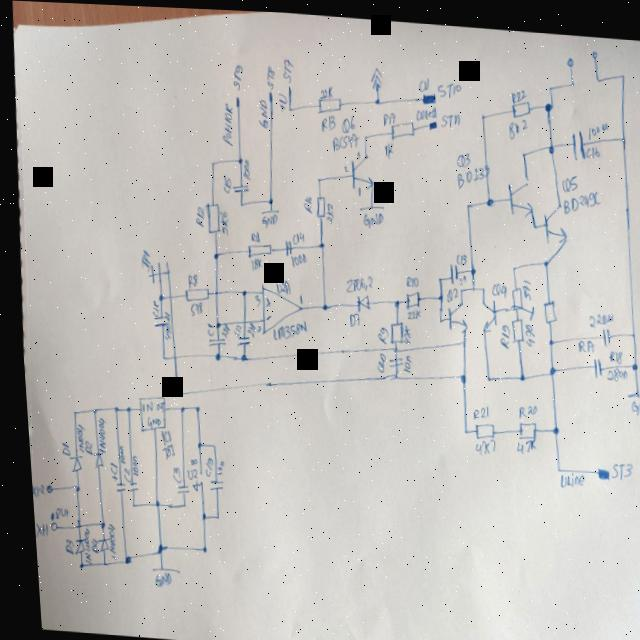capacitor: (566, 123, 585, 156), (585, 350, 597, 373), (200, 474, 217, 490), (442, 256, 454, 278), (201, 333, 221, 345), (228, 177, 245, 191), (595, 320, 606, 340), (167, 478, 182, 491), (278, 234, 288, 253), (146, 313, 163, 324), (382, 350, 396, 363), (230, 331, 245, 343), (118, 477, 131, 490), (106, 479, 117, 490)
crossover: (66, 520, 72, 529), (386, 341, 392, 348), (165, 351, 171, 357), (162, 291, 167, 297), (236, 315, 240, 321)
diode: (60, 452, 76, 470), (350, 290, 366, 308), (88, 533, 101, 550), (83, 450, 96, 466), (65, 535, 76, 553)
ground: (353, 197, 380, 209), (141, 562, 171, 572), (618, 382, 640, 392), (255, 203, 276, 212)
junction: (540, 94, 551, 106), (541, 358, 550, 370), (481, 190, 490, 201), (540, 330, 549, 341), (381, 367, 392, 376), (543, 137, 552, 147), (147, 541, 156, 551), (544, 419, 552, 429), (312, 235, 320, 245), (624, 354, 632, 364), (233, 349, 241, 359), (114, 551, 121, 562), (65, 480, 72, 491), (464, 260, 471, 270), (512, 366, 519, 376), (453, 367, 460, 377), (316, 298, 324, 306), (152, 289, 158, 299), (145, 496, 152, 504), (388, 294, 395, 302), (460, 195, 467, 203), (567, 73, 574, 81), (623, 323, 630, 331), (617, 128, 624, 136), (263, 193, 270, 201), (187, 400, 193, 409), (118, 402, 124, 411), (371, 91, 377, 100), (69, 559, 75, 568), (208, 248, 214, 256), (192, 542, 198, 550), (235, 284, 241, 292), (477, 106, 483, 114), (106, 402, 112, 410), (172, 401, 178, 409), (189, 438, 195, 446), (617, 64, 623, 72), (192, 509, 198, 517), (592, 69, 598, 77), (167, 386, 173, 394), (431, 288, 437, 296), (233, 152, 239, 160), (91, 519, 97, 527), (208, 349, 214, 357), (454, 332, 460, 340), (209, 317, 215, 325), (431, 270, 438, 276), (544, 77, 550, 84), (538, 252, 543, 260), (479, 370, 485, 376), (527, 217, 533, 223), (122, 499, 127, 506), (432, 311, 436, 319), (456, 422, 461, 428), (173, 499, 178, 505), (65, 407, 70, 413), (518, 144, 523, 150), (206, 510, 211, 516), (234, 196, 239, 202), (85, 405, 90, 411), (92, 558, 97, 564), (453, 281, 458, 287), (549, 460, 553, 467), (506, 259, 510, 265), (312, 172, 316, 178), (207, 156, 211, 162), (155, 351, 159, 357), (359, 129, 363, 135), (466, 278, 470, 284), (204, 440, 208, 446), (285, 102, 289, 108), (476, 280, 480, 286), (209, 285, 213, 291)
resistor: (505, 278, 529, 313), (385, 114, 413, 136), (200, 198, 218, 232), (177, 283, 205, 303), (314, 90, 341, 110), (241, 238, 269, 256), (510, 414, 531, 435), (536, 292, 552, 319), (382, 315, 398, 340), (507, 93, 528, 112), (504, 311, 519, 337), (398, 285, 417, 305), (467, 417, 488, 434), (310, 188, 323, 215), (342, 307, 355, 324)
source: (367, 61, 381, 89)
switch: (142, 257, 165, 281)
terminal: (588, 459, 602, 474), (419, 87, 433, 99), (423, 114, 435, 126), (41, 519, 49, 530), (564, 50, 572, 60), (37, 481, 44, 492), (589, 42, 596, 52), (231, 89, 238, 98), (264, 85, 271, 91), (284, 80, 290, 86)
text: (557, 180, 598, 211), (452, 156, 488, 186), (265, 312, 302, 338), (216, 98, 232, 142), (328, 127, 358, 149), (339, 269, 369, 289), (152, 426, 170, 457), (503, 111, 526, 135), (550, 463, 577, 483), (253, 92, 268, 128), (88, 411, 100, 456), (433, 74, 461, 93), (602, 454, 626, 474), (581, 303, 607, 321), (583, 113, 605, 134), (356, 205, 380, 224), (466, 432, 489, 451), (555, 166, 575, 187), (97, 520, 108, 558), (227, 59, 242, 86), (154, 307, 167, 338), (436, 105, 458, 123), (508, 431, 530, 449), (411, 100, 434, 117), (67, 419, 78, 453), (599, 359, 622, 375), (278, 54, 292, 80), (261, 60, 274, 88), (507, 80, 525, 100), (73, 524, 82, 562), (622, 389, 640, 408), (255, 208, 274, 226), (144, 568, 163, 586), (317, 109, 334, 129), (464, 398, 484, 415), (284, 247, 302, 265), (269, 273, 287, 291), (337, 109, 353, 129), (492, 317, 505, 341), (452, 145, 468, 164), (41, 505, 61, 520), (413, 69, 429, 87), (517, 315, 529, 339), (297, 189, 310, 211), (214, 205, 225, 231), (511, 397, 530, 412), (190, 201, 202, 224), (398, 267, 414, 284), (515, 273, 527, 295), (368, 346, 380, 368), (195, 452, 207, 474), (135, 245, 147, 267), (485, 275, 501, 291), (316, 79, 331, 96), (571, 331, 588, 346), (121, 449, 131, 474), (274, 85, 284, 110), (378, 135, 391, 154), (582, 138, 597, 154), (163, 461, 175, 481), (217, 171, 229, 191), (142, 294, 154, 314), (440, 280, 454, 297), (183, 297, 197, 314), (395, 318, 406, 339), (602, 341, 617, 356), (27, 519, 40, 536), (320, 197, 330, 219), (370, 321, 382, 339), (379, 106, 393, 121), (55, 534, 66, 553), (215, 319, 227, 336), (395, 347, 405, 367), (237, 154, 247, 174), (180, 270, 193, 285), (52, 438, 64, 454), (25, 481, 37, 497), (240, 317, 251, 334), (287, 227, 300, 241), (226, 318, 238, 333), (81, 534, 91, 551), (207, 455, 217, 472), (178, 463, 191, 476), (450, 246, 463, 259), (246, 253, 257, 268), (110, 442, 118, 462), (139, 413, 153, 424), (76, 436, 85, 453), (399, 305, 416, 314), (245, 226, 256, 239), (100, 458, 110, 472), (200, 319, 209, 333), (115, 464, 123, 478), (148, 397, 158, 408), (184, 477, 193, 489), (135, 398, 145, 408), (181, 454, 190, 464), (248, 290, 255, 302), (259, 292, 265, 304), (249, 319, 256, 329), (351, 146, 358, 156), (339, 160, 346, 168), (259, 309, 266, 317), (293, 289, 297, 301), (353, 181, 357, 193)
transistor: (501, 169, 531, 213), (537, 195, 565, 239), (347, 147, 372, 187), (474, 290, 495, 330), (439, 295, 463, 329)
